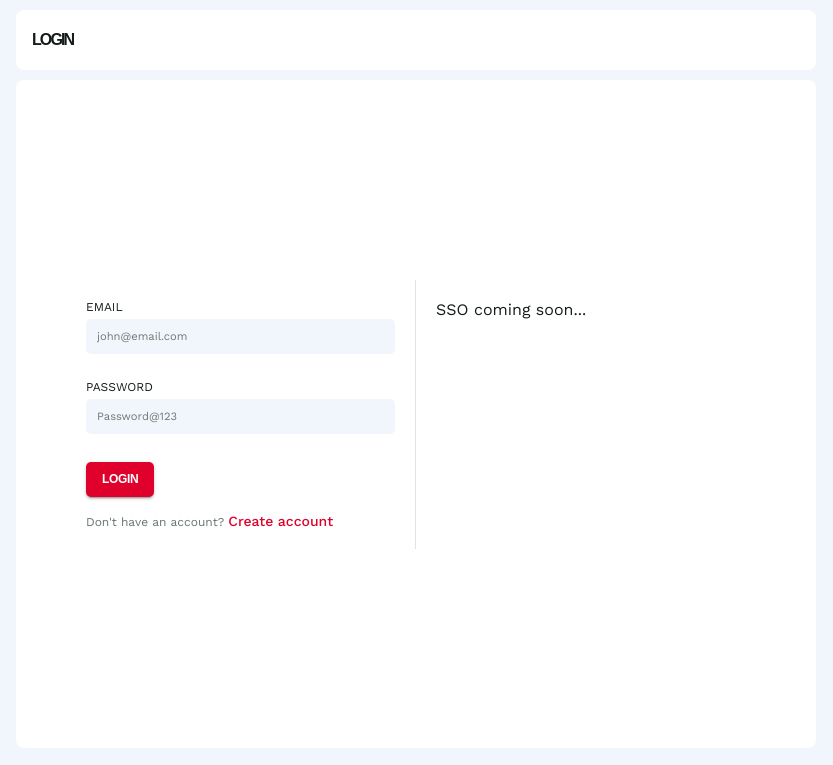
Test: LoginPage › password validation › shows error for invalid password
Type "weak" into the password field with placeholder "Password@123" at (240, 416), box [86,398,395,434]
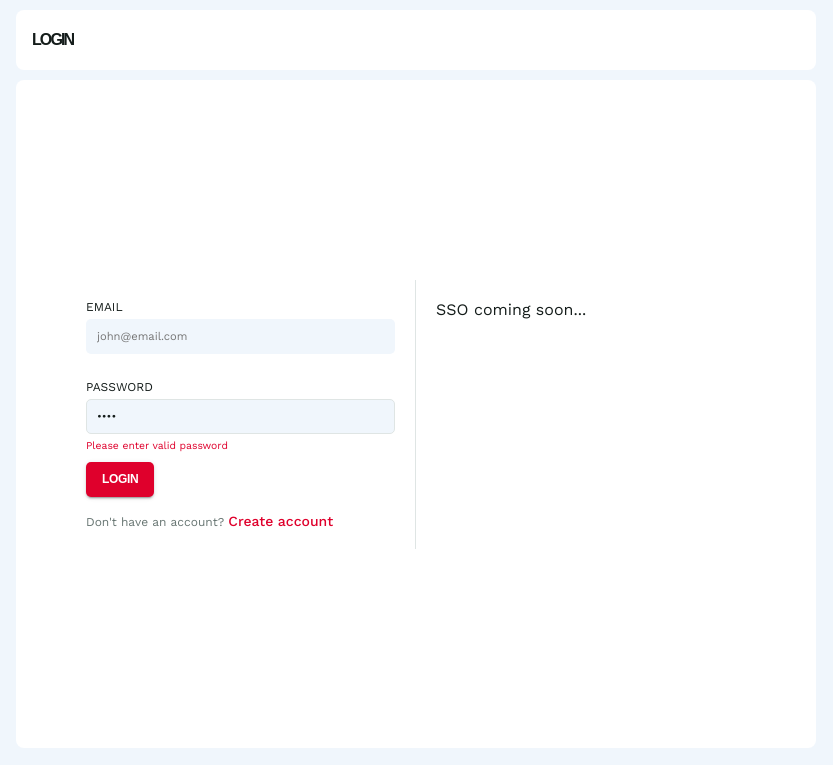
Expected: the text "Please enter valid password" is shown, [86,438,228,452]
